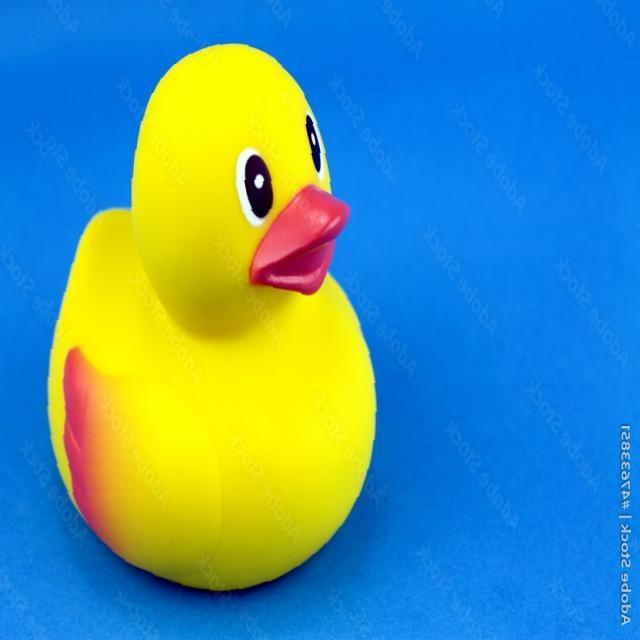rubber-duck: (48, 44, 373, 588)
